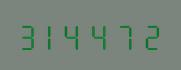four: (66, 20, 89, 50), (90, 20, 113, 50)
one: (41, 20, 64, 50)
seven: (114, 20, 137, 50)
three: (17, 20, 40, 50)
two: (138, 20, 161, 50)
